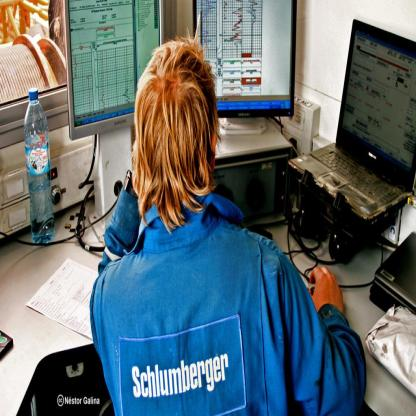board: (292, 23, 414, 249), (24, 85, 56, 247)
